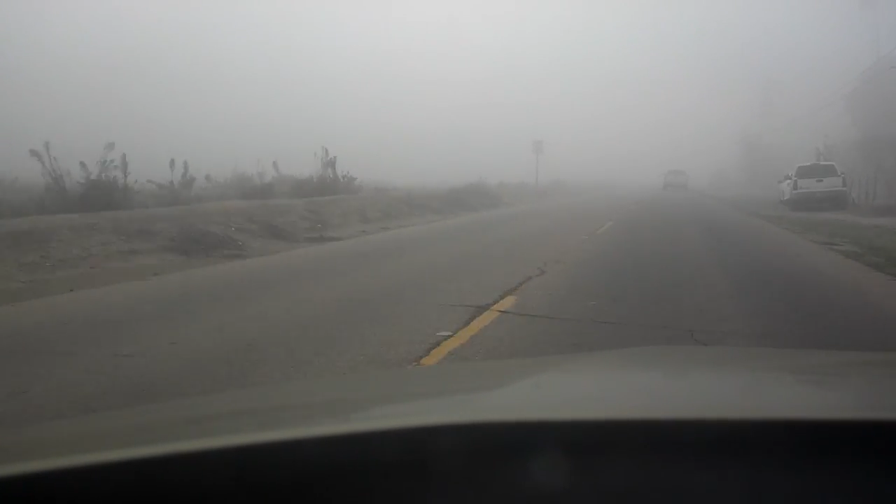car: (784, 161, 847, 208), (776, 172, 812, 201), (662, 168, 690, 192)
